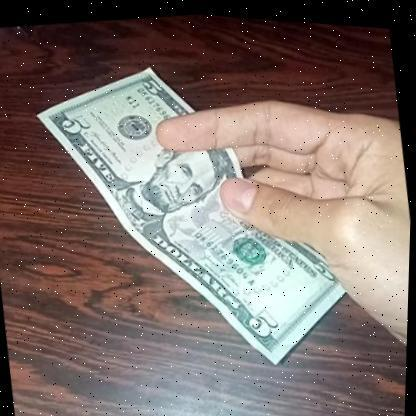dollar_front: (25, 29, 367, 398)
